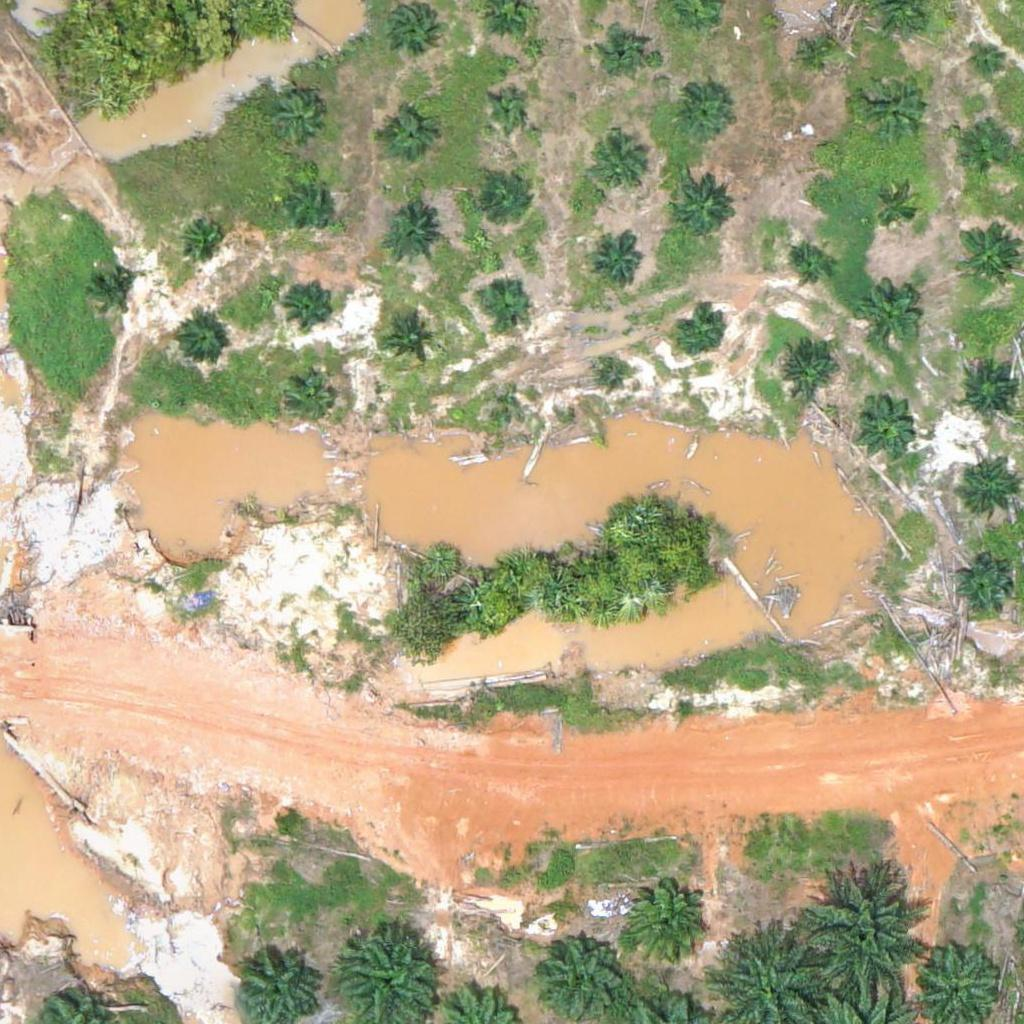Kelapa_Sawit: (803, 867, 928, 993), (621, 879, 708, 967), (858, 63, 933, 139), (855, 283, 918, 346), (380, 206, 443, 269), (952, 460, 1015, 523), (851, 392, 914, 455), (951, 557, 1014, 620), (954, 224, 1016, 287), (671, 172, 733, 235), (589, 135, 651, 198), (668, 82, 730, 145), (774, 337, 836, 400), (959, 362, 1021, 424), (478, 273, 528, 324), (482, 174, 532, 225), (380, 111, 430, 162), (274, 96, 324, 147), (285, 179, 335, 230), (285, 277, 335, 328), (385, 316, 435, 367), (593, 239, 643, 289), (674, 306, 724, 356), (600, 23, 650, 73), (953, 130, 1003, 180), (385, 1, 435, 51), (176, 317, 226, 367), (870, 186, 920, 236), (785, 243, 835, 293), (793, 26, 843, 76), (287, 378, 337, 428), (179, 213, 229, 263), (88, 269, 138, 319), (968, 41, 1006, 79), (488, 90, 525, 128), (599, 359, 624, 384), (809, 136, 834, 161), (504, 393, 529, 418)
